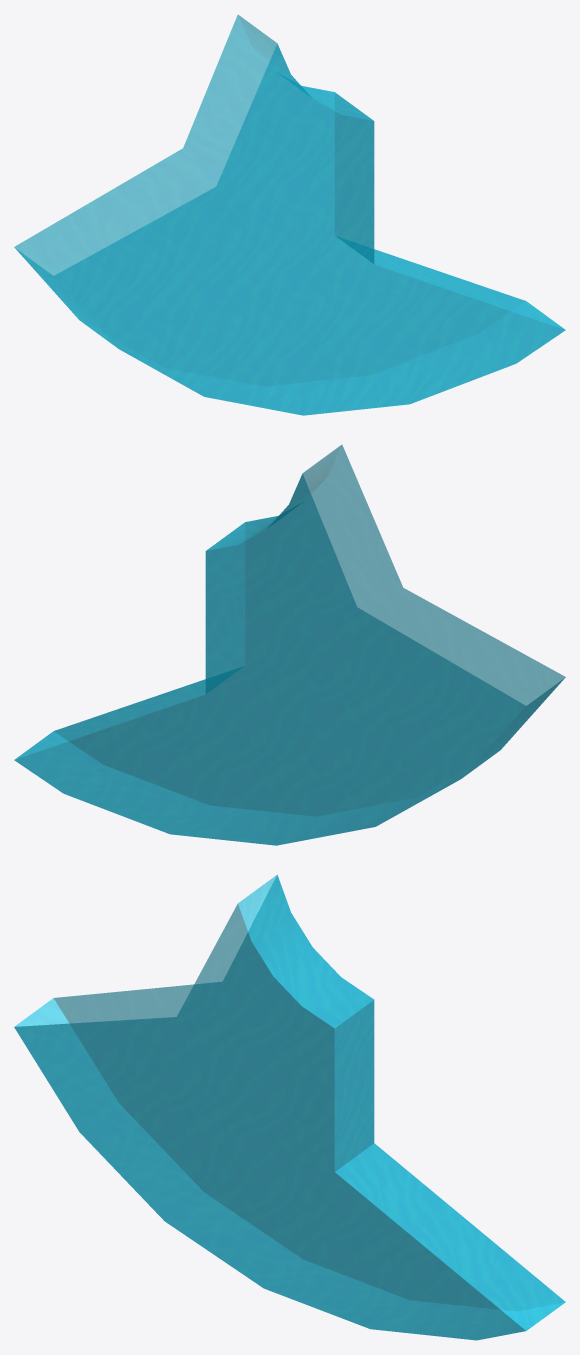
The model's file is GlassPart_03.fbx.
The picture shows the model from 3 angles, top to bottom: view 1: azimuth 30°, elevation 25°; view 2: azimuth 150°, elevation 25°; view 3: azimuth 330°, elevation 25°; orthographic projection.
Parts seen in each view (by area): view 1: Model; view 2: Model; view 3: Model.
Boxes of the visible parts, x1,y1,x2,y2 form: Model: (14,15,565,415); Model: (14,445,565,845); Model: (14,874,565,1340).
Size of the model in its own units: 3.74 by 2.74 by 0.5.
